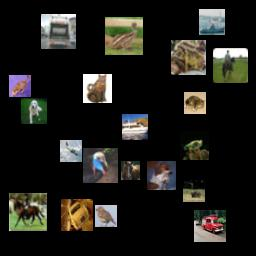airplane: (60, 140, 82, 162)
automobile: (61, 199, 93, 231)
bird: (105, 17, 143, 55), (83, 148, 118, 183), (95, 205, 117, 227), (183, 180, 205, 202)
cat: (83, 74, 112, 103), (9, 75, 31, 97), (184, 92, 206, 114)
dog: (147, 161, 176, 190), (21, 98, 47, 124)
frog: (171, 40, 206, 75), (180, 131, 209, 160)
ship: (122, 114, 148, 140), (199, 9, 225, 35)
truck: (41, 14, 76, 49), (194, 210, 226, 242)
